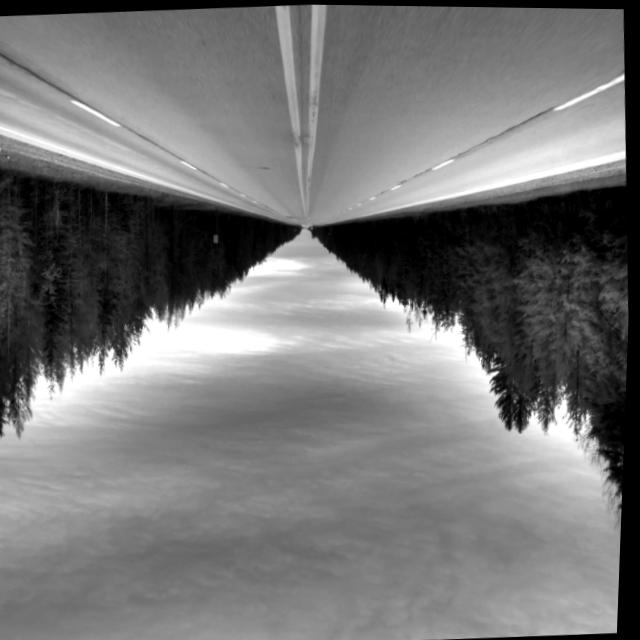cleat: (0, 4, 578, 356)
